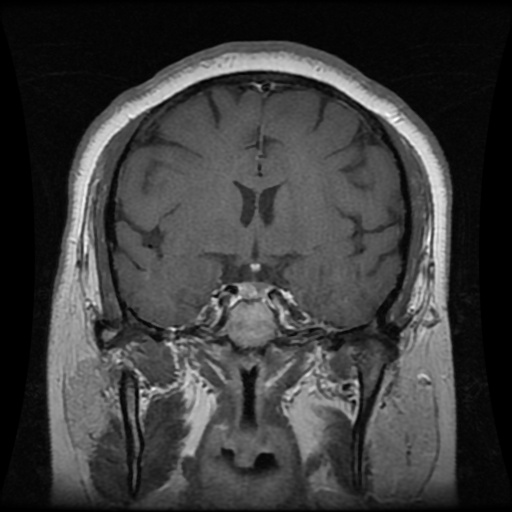pituitary: (238, 281, 271, 299)
